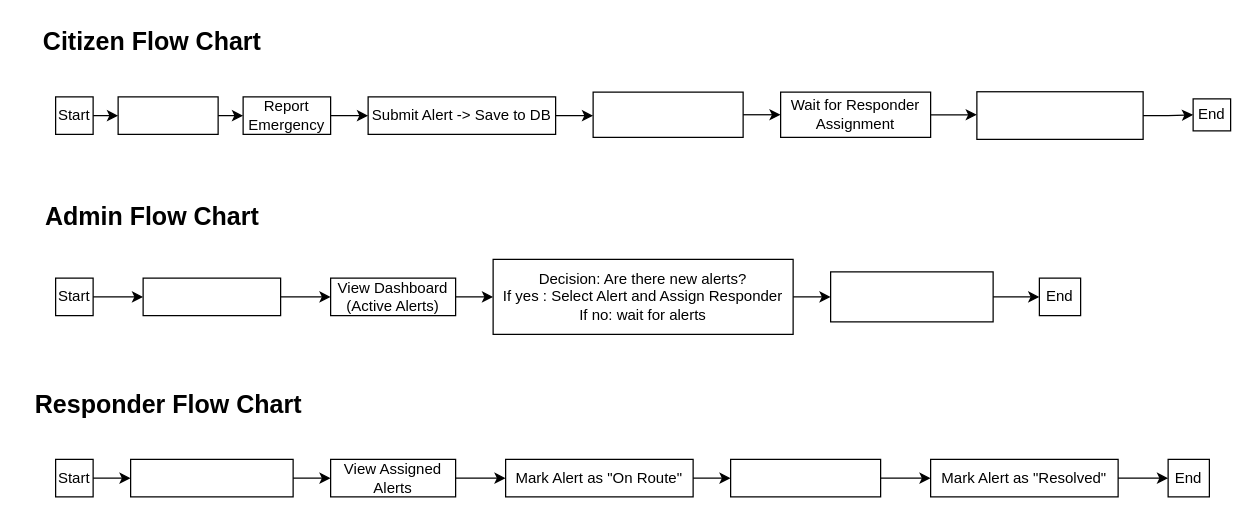
The diagram is 1253 pixels wide and 519 high, and some of its shapes have lost their labels. Here are the shapes that lost their labels. From the top down, the centre of each, then its label:
At point 167,115: "Login/Register".
At point 667,114: "Receive Confirmation Message".
At point 1059,114: "View Alert Status Updates".
At point 211,296: "Login (admin role)".
At point 911,296: "Monitor Alert Status ; Resolve When Done".
At point 211,477: "Login (responder role)".
At point 805,477: "Handle Emergency".
